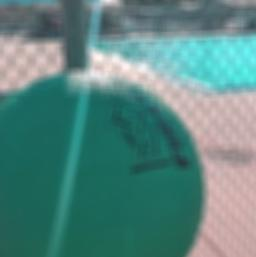algae: (0, 67, 210, 257)
